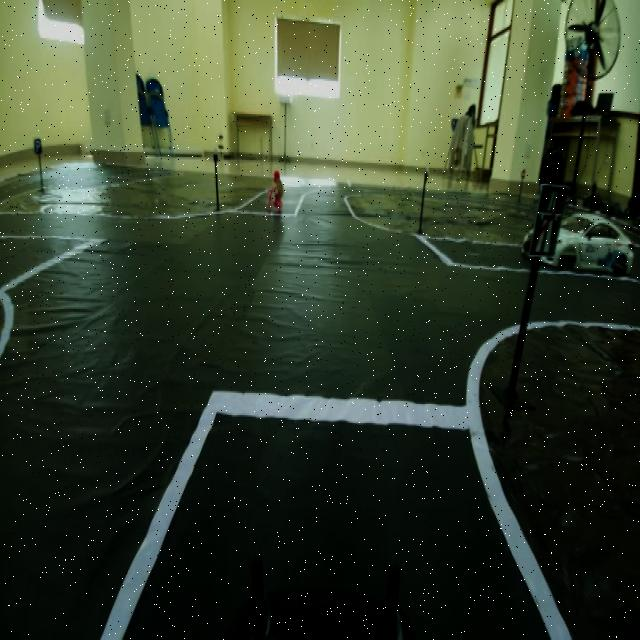highway_exit: (526, 173, 572, 267)
